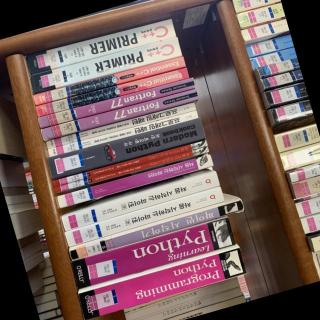book-spine: (76, 246, 247, 320), (69, 217, 235, 289), (68, 200, 244, 260), (46, 117, 205, 178), (64, 187, 225, 247), (61, 172, 219, 231), (28, 37, 182, 93), (40, 87, 198, 141), (24, 18, 176, 74), (56, 154, 213, 208), (37, 77, 195, 128), (32, 55, 185, 105), (53, 145, 208, 193), (35, 68, 188, 116), (52, 140, 207, 186), (45, 102, 195, 149), (47, 111, 198, 157)
